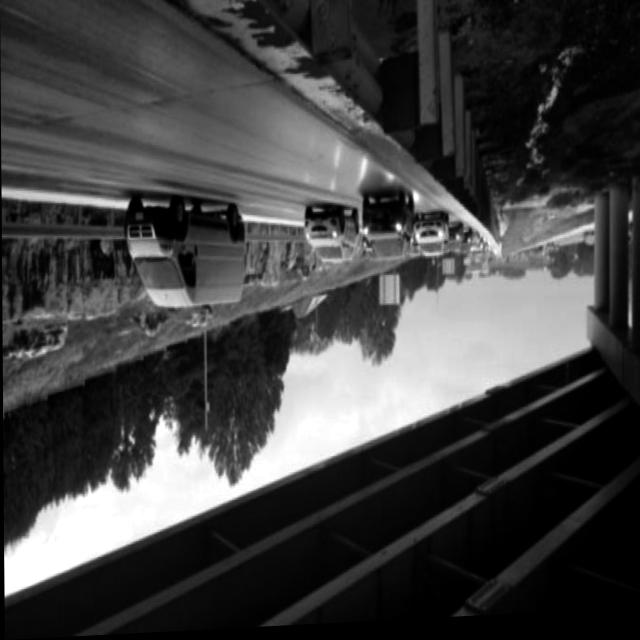cleat: (0, 0, 640, 452)
